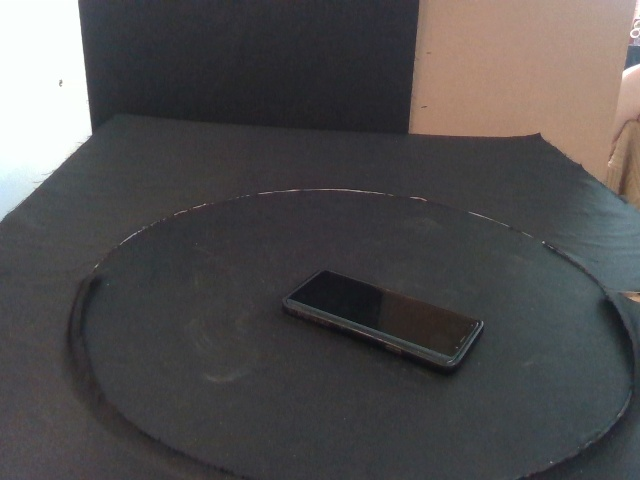phone: (281, 268, 485, 376)
